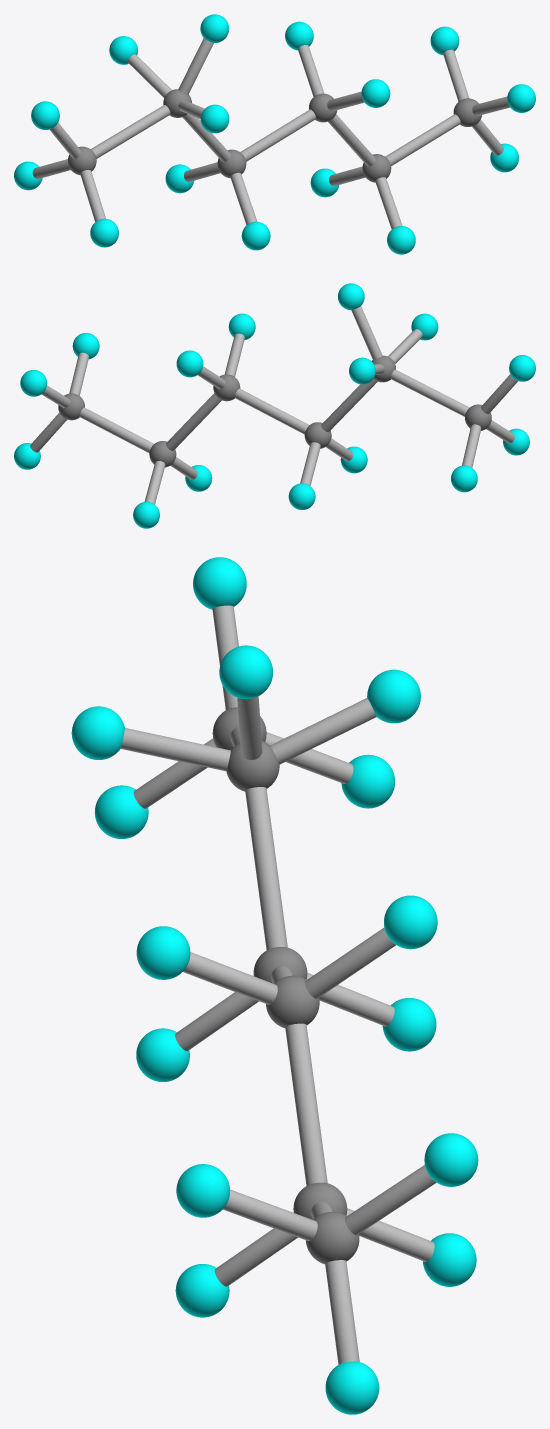
File: hexane.glb
3 renders of one model, top to bottom at view 1: azimuth 30°, elevation 25°; view 2: azimuth 150°, elevation 25°; view 3: azimuth 270°, elevation 25°, orthographic. The views are drawn at different scales.
Parts seen in each view (by area): view 1: CMBond_6_Segment_0, CMBond_4_Segment_0, CMBond_3_Segment_0, CMBond_2_Segment_0, CMBond_17_Segment_0, CMAtom_15, CMAtom_5, CMAtom_20, CMBond_5_Segment_0, CMAtom_18, CMAtom_1, CMAtom_12 (+29 smaller); view 2: CMBond_6_Segment_0, CMBond_4_Segment_0, CMBond_3_Segment_0, CMBond_2_Segment_0, CMBond_5_Segment_0, CMBond_17_Segment_0, CMAtom_4, CMAtom_19, CMAtom_2, CMAtom_11, CMAtom_13, CMAtom_18 (+28 smaller); view 3: CMBond_5_Segment_0, CMBond_2_Segment_0, CMBond_16_Segment_0, CMBond_15_Segment_0, CMAtom_4, CMAtom_5, CMAtom_7, CMAtom_16, CMAtom_9, CMAtom_8, CMAtom_15, CMBond_11_Segment_0 (+25 smaller).
Boxes of the visible parts, x1=… form: CMBond_6_Segment_0: x1=90, y1=105, x2=170, y2=158; CMBond_4_Segment_0: x1=240, y1=109, x2=315, y2=161; CMBond_3_Segment_0: x1=385, y1=114, x2=460, y2=166; CMBond_2_Segment_0: x1=328, y1=114, x2=375, y2=166; CMBond_17_Segment_0: x1=178, y1=38, x2=213, y2=94; CMAtom_15: x1=200, y1=104, x2=229, y2=133; CMAtom_5: x1=361, y1=79, x2=390, y2=107; CMAtom_20: x1=90, y1=218, x2=118, y2=247; CMBond_5_Segment_0: x1=182, y1=114, x2=230, y2=161; CMAtom_18: x1=31, y1=101, x2=59, y2=129; CMAtom_1: x1=387, y1=226, x2=415, y2=254; CMAtom_12: x1=241, y1=221, x2=270, y2=250; CMBond_6_Segment_0: x1=390, y1=369, x2=469, y2=416; CMBond_4_Segment_0: x1=234, y1=388, x2=309, y2=434; CMBond_3_Segment_0: x1=79, y1=407, x2=153, y2=452; CMBond_2_Segment_0: x1=166, y1=393, x2=221, y2=450; CMBond_5_Segment_0: x1=321, y1=379, x2=377, y2=432; CMBond_17_Segment_0: x1=351, y1=306, x2=382, y2=359; CMAtom_4: x1=176, y1=350, x2=203, y2=377; CMAtom_19: x1=451, y1=465, x2=477, y2=492; CMAtom_2: x1=133, y1=501, x2=159, y2=528; CMAtom_11: x1=288, y1=483, x2=315, y2=509; CMAtom_13: x1=349, y1=357, x2=375, y2=384; CMAtom_18: x1=509, y1=355, x2=535, y2=381; CMBond_5_Segment_0: x1=245, y1=787, x2=287, y2=949; CMBond_2_Segment_0: x1=285, y1=1023, x2=327, y2=1185; CMBond_16_Segment_0: x1=120, y1=728, x2=230, y2=771; CMBond_15_Segment_0: x1=270, y1=698, x2=376, y2=764; CMAtom_4: x1=384, y1=895, x2=437, y2=949; CMAtom_5: x1=136, y1=926, x2=190, y2=979; CMAtom_7: x1=424, y1=1133, x2=478, y2=1186; CMAtom_16: x1=219, y1=645, x2=272, y2=699; CMAtom_9: x1=176, y1=1164, x2=229, y2=1217; CMAtom_8: x1=325, y1=1361, x2=379, y2=1414; CMAtom_15: x1=71, y1=706, x2=124, y2=759; CMBond_11_Segment_0: x1=325, y1=1260, x2=359, y2=1364.
Size of the model in its own units: 8.34 by 4.17 by 3.02.
